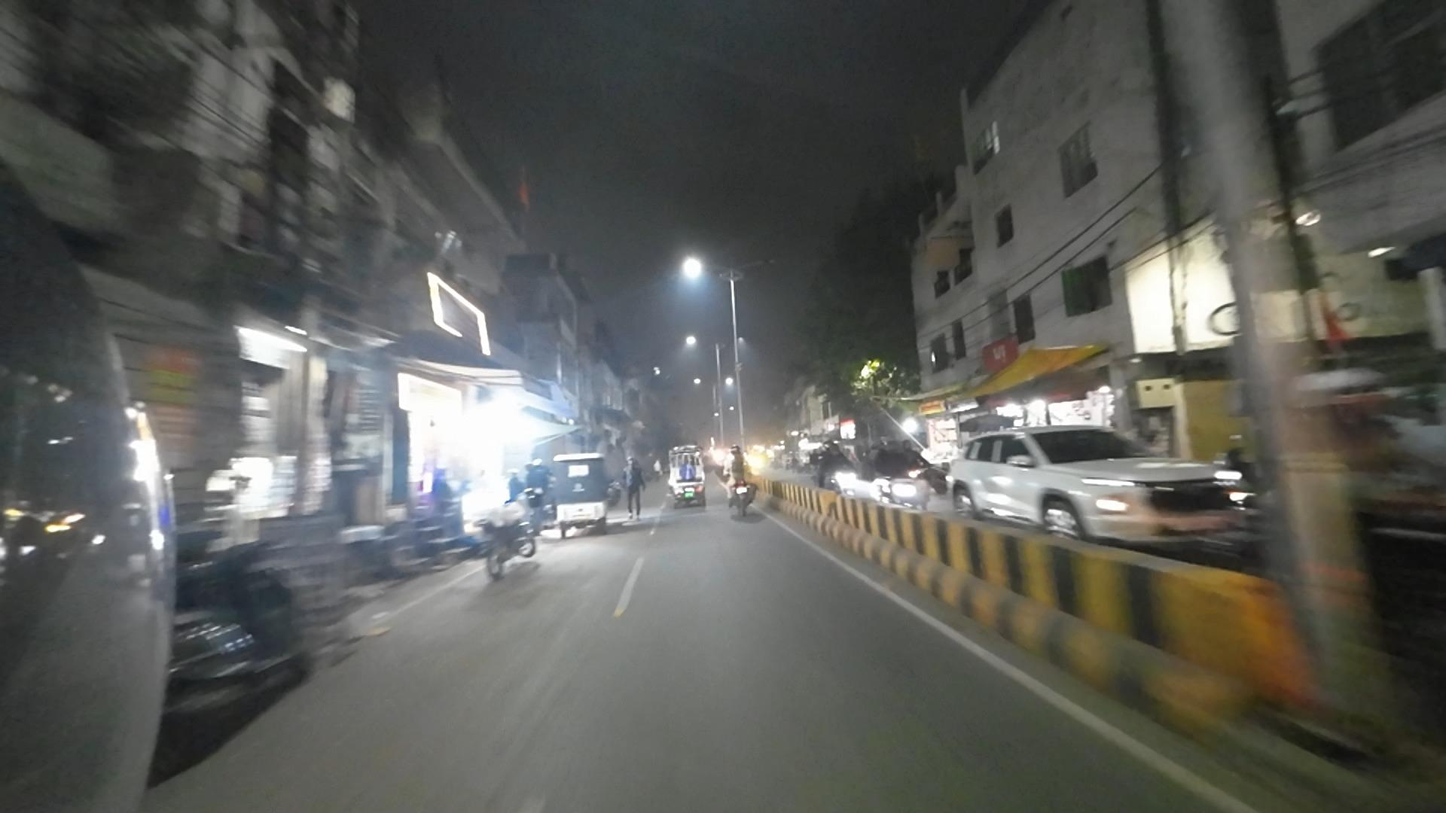streetlight: (745, 256, 776, 268)
